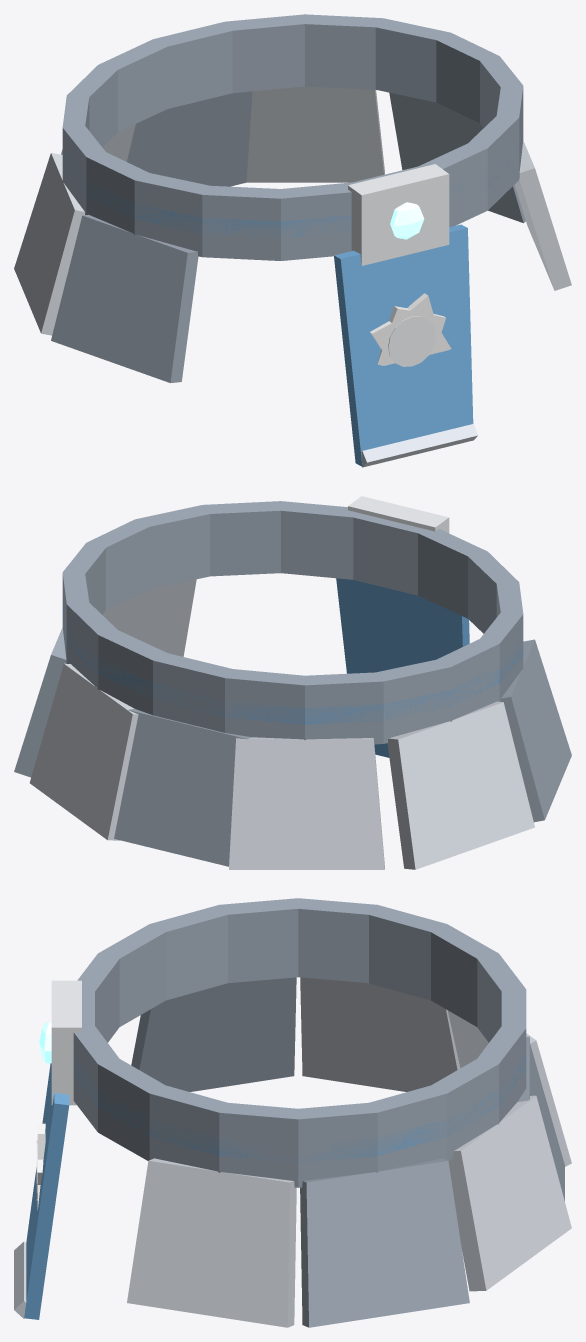
The model's file is hauvar_belt.glb.
The picture shows the model from 3 angles, top to bottom: view 1: azimuth 30°, elevation 25°; view 2: azimuth 150°, elevation 25°; view 3: azimuth 270°, elevation 25°; orthographic projection. The views are drawn at different scales.
Parts seen in each view (by area): view 1: hauvar_belt; view 2: hauvar_belt; view 3: hauvar_belt.
Boxes of the visible parts, box(x1,y1,x2,y2) form: hauvar_belt: box(14, 14, 571, 467); hauvar_belt: box(14, 496, 571, 869); hauvar_belt: box(14, 898, 571, 1327).
Bounding box in the file's own units: 1.24 × 0.6269 × 1.11.
